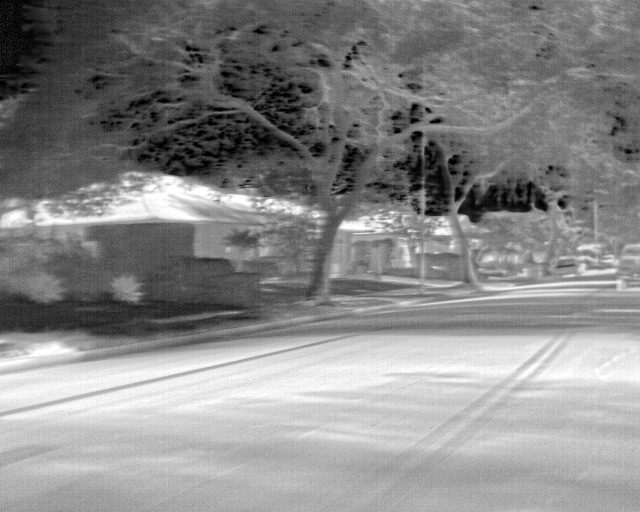car: (616, 243, 640, 293), (548, 252, 589, 279)
